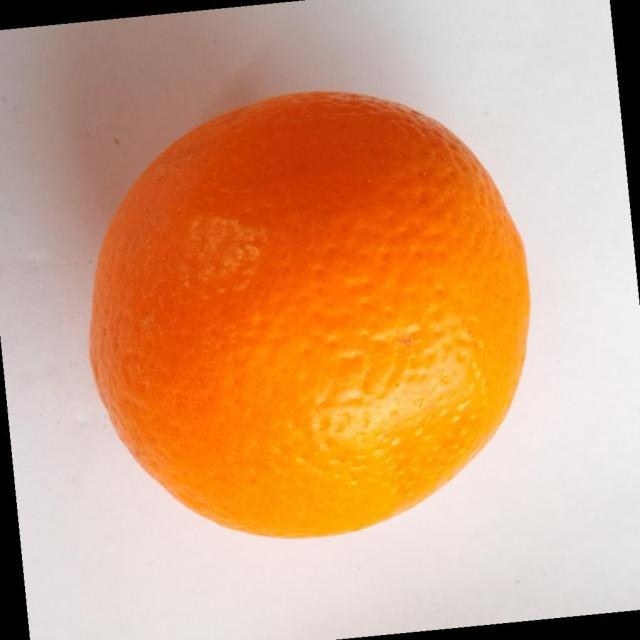agrume: (88, 88, 532, 540)
